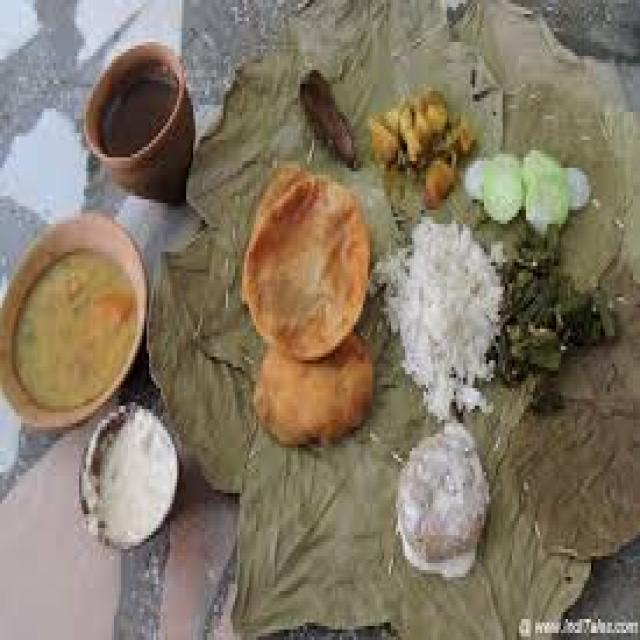curd: (81, 396, 183, 553)
dal: (5, 236, 141, 420)
raita: (83, 398, 181, 552)
rice: (386, 221, 504, 423)
sweet: (392, 433, 491, 573)
